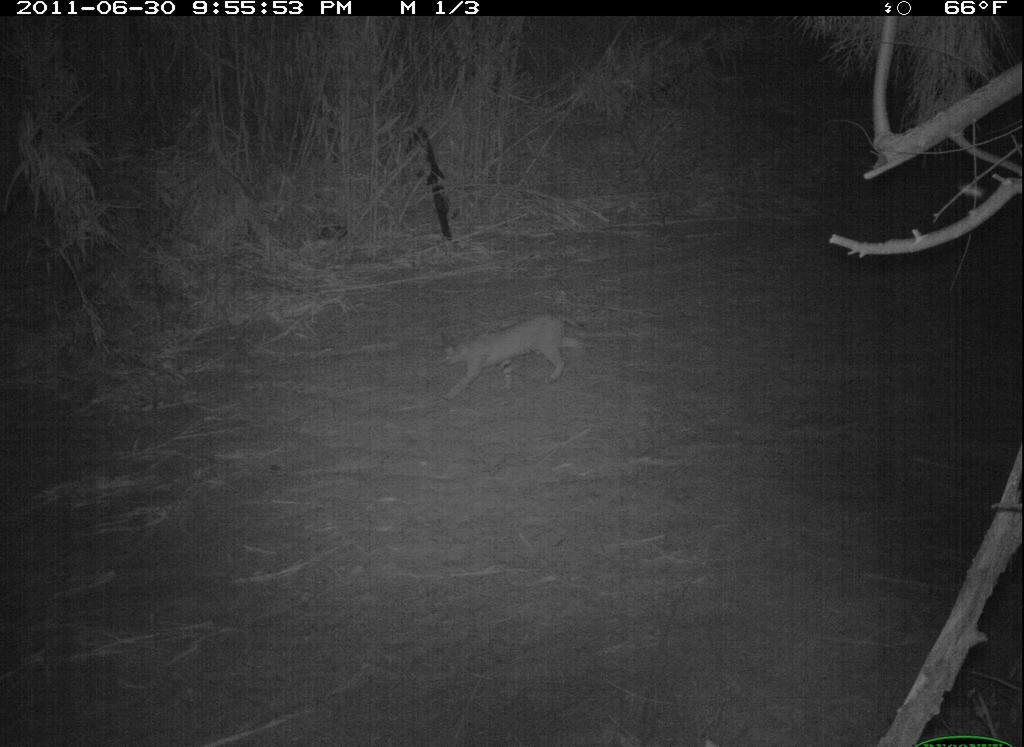bobcat: (434, 309, 609, 417)
